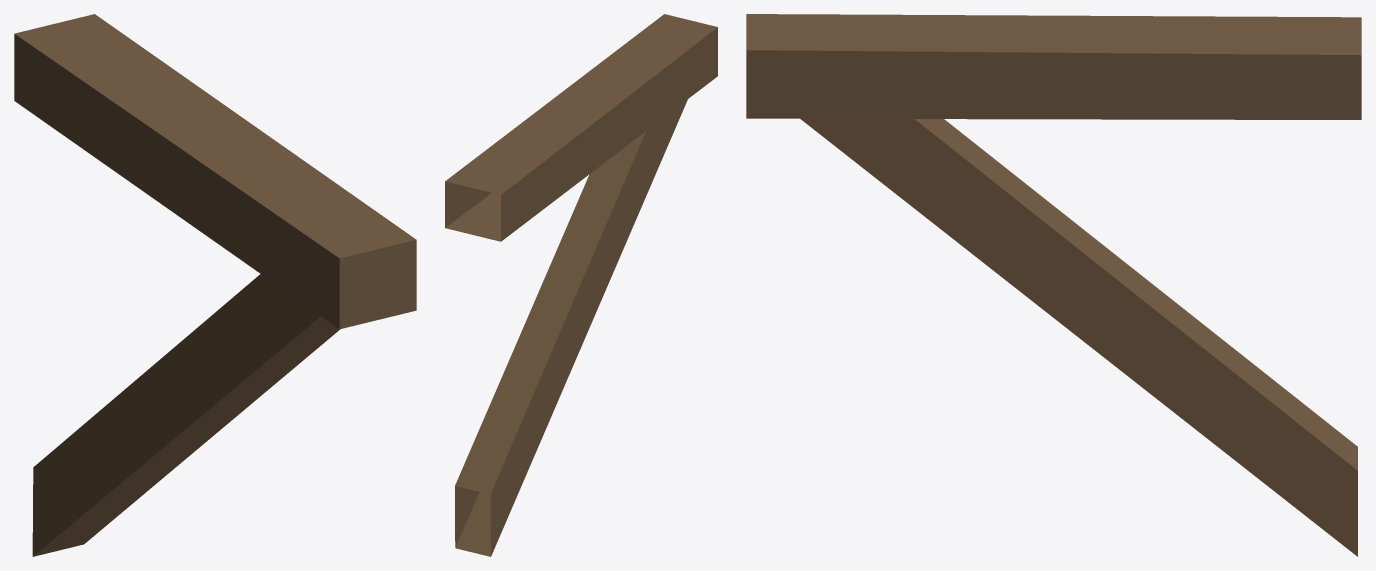
The model's file is rpgpp_st_balcony_01_support_a.fbx.
3 renders of one model, left to right at view 1: azimuth 30°, elevation 25°; view 2: azimuth 150°, elevation 25°; view 3: azimuth 270°, elevation 25°, orthographic. The views are drawn at different scales.
Visible parts, largest first — view 1: rpgpp_st_balcony_01_support_a; view 2: rpgpp_st_balcony_01_support_a; view 3: rpgpp_st_balcony_01_support_a.
Boxes of the visible parts, x1=… form: rpgpp_st_balcony_01_support_a: x1=14, y1=14, x2=416, y2=556; rpgpp_st_balcony_01_support_a: x1=445, y1=14, x2=717, y2=556; rpgpp_st_balcony_01_support_a: x1=746, y1=14, x2=1361, y2=556.
Size of the model in its own units: 0.3263 by 1.99 by 2.15.
